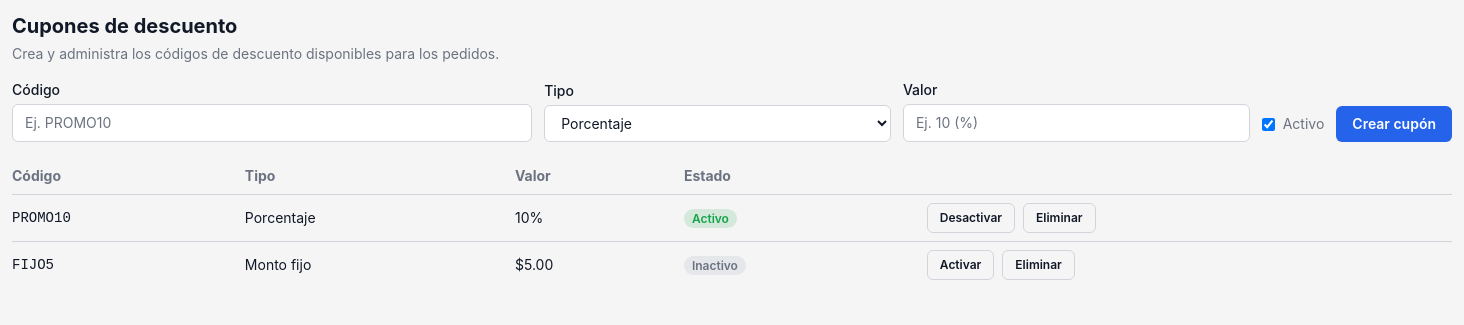
Test: CouponManager › activa o desactiva un cupón existente
Click the button "Desactivar" at (971, 218), box [927,203,1015,233]
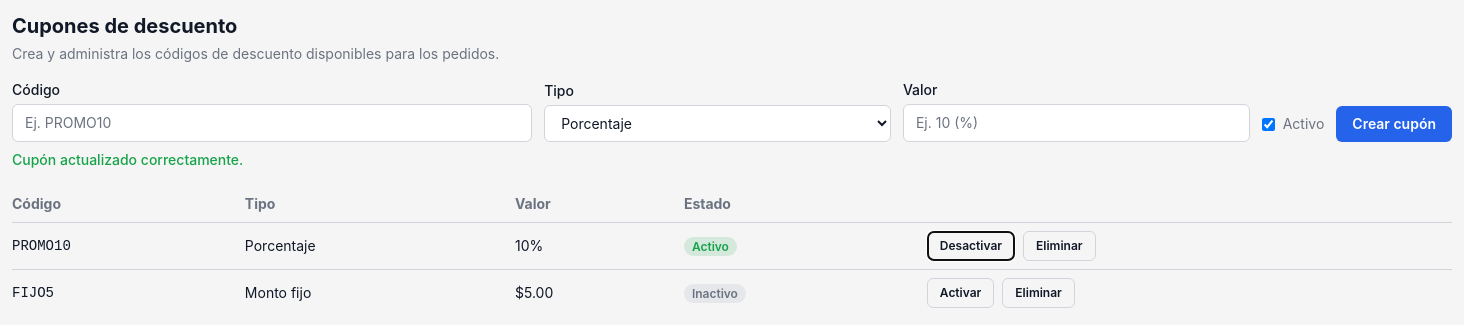
Result: the text "Cupón actualizado correctamente." is shown at [12,151,243,168]
